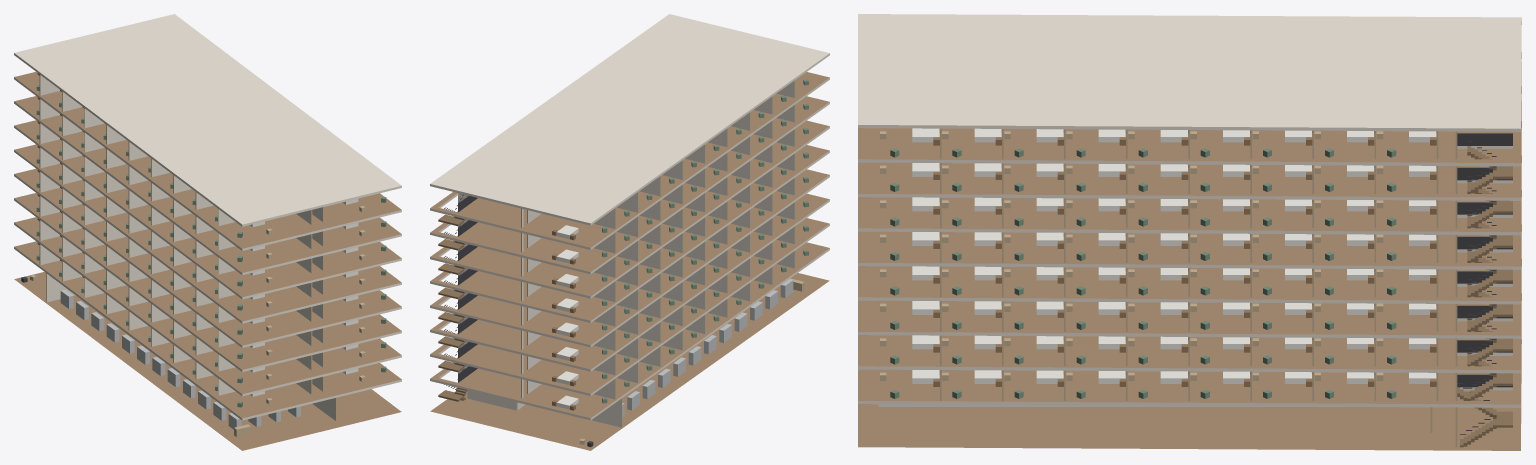
File: interior.glb
The picture shows the model from 3 angles, left to right: view 1: azimuth 30°, elevation 25°; view 2: azimuth 150°, elevation 25°; view 3: azimuth 270°, elevation 25°; orthographic projection. The views are drawn at different scales.
Visible parts, largest first — view 1: slabs, partitions, coarse-s0, coarse-s2, coarse-s6, coarse-s1, coarse-s3, coarse-s5, coarse-s7, coarse-s8, coarse-s4; view 2: slabs, partitions, stair, coarse-s0, coarse-s3, coarse-s1, coarse-s2, coarse-s8, coarse-s4, coarse-s5, coarse-s6, coarse-s7; view 3: slabs, stair, partitions, coarse-s2, coarse-s4, coarse-s6, coarse-s8, coarse-s1, coarse-s3, coarse-s5, coarse-s7.
Boxes of the visible parts, box(x1,y1,x2,y2) form: slabs: box(14, 14, 401, 450); partitions: box(39, 75, 336, 420); coarse-s0: box(21, 275, 300, 436); coarse-s2: box(36, 218, 386, 383); coarse-s6: box(36, 121, 386, 286); coarse-s1: box(36, 243, 386, 407); coarse-s3: box(36, 194, 386, 358); coarse-s5: box(36, 146, 386, 310); coarse-s7: box(36, 97, 386, 261); coarse-s8: box(36, 73, 386, 237); coarse-s4: box(36, 170, 386, 334); slabs: box(430, 14, 829, 450); partitions: box(458, 80, 795, 427); stair: box(438, 194, 477, 401); coarse-s0: box(579, 278, 804, 446); coarse-s3: box(552, 201, 808, 361); coarse-s1: box(552, 249, 808, 410); coarse-s2: box(552, 225, 808, 386); coarse-s8: box(552, 79, 808, 240); coarse-s4: box(552, 176, 808, 337); coarse-s5: box(552, 152, 808, 313); coarse-s6: box(552, 128, 808, 288); coarse-s7: box(552, 103, 808, 264); slabs: box(858, 14, 1521, 450); stair: box(1457, 133, 1512, 447); partitions: box(878, 128, 1457, 447); coarse-s2: box(880, 335, 1436, 364); coarse-s4: box(880, 266, 1436, 295); coarse-s6: box(880, 197, 1436, 226); coarse-s8: box(880, 128, 1436, 157); coarse-s1: box(880, 370, 1436, 398); coarse-s3: box(880, 301, 1436, 329); coarse-s5: box(880, 232, 1436, 260); coarse-s7: box(880, 163, 1436, 191).
Size of the model in its own units: 19.99 by 26.21 by 48.88.
